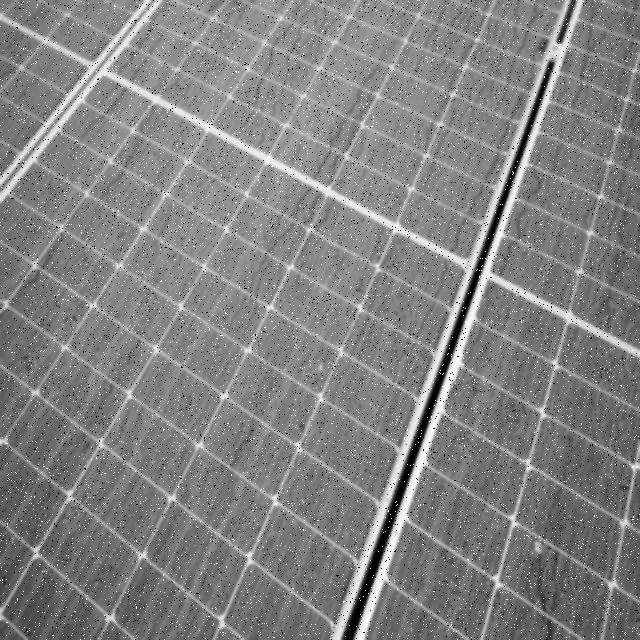dusty: (0, 0, 563, 640), (368, 0, 639, 638), (1, 0, 141, 176)
